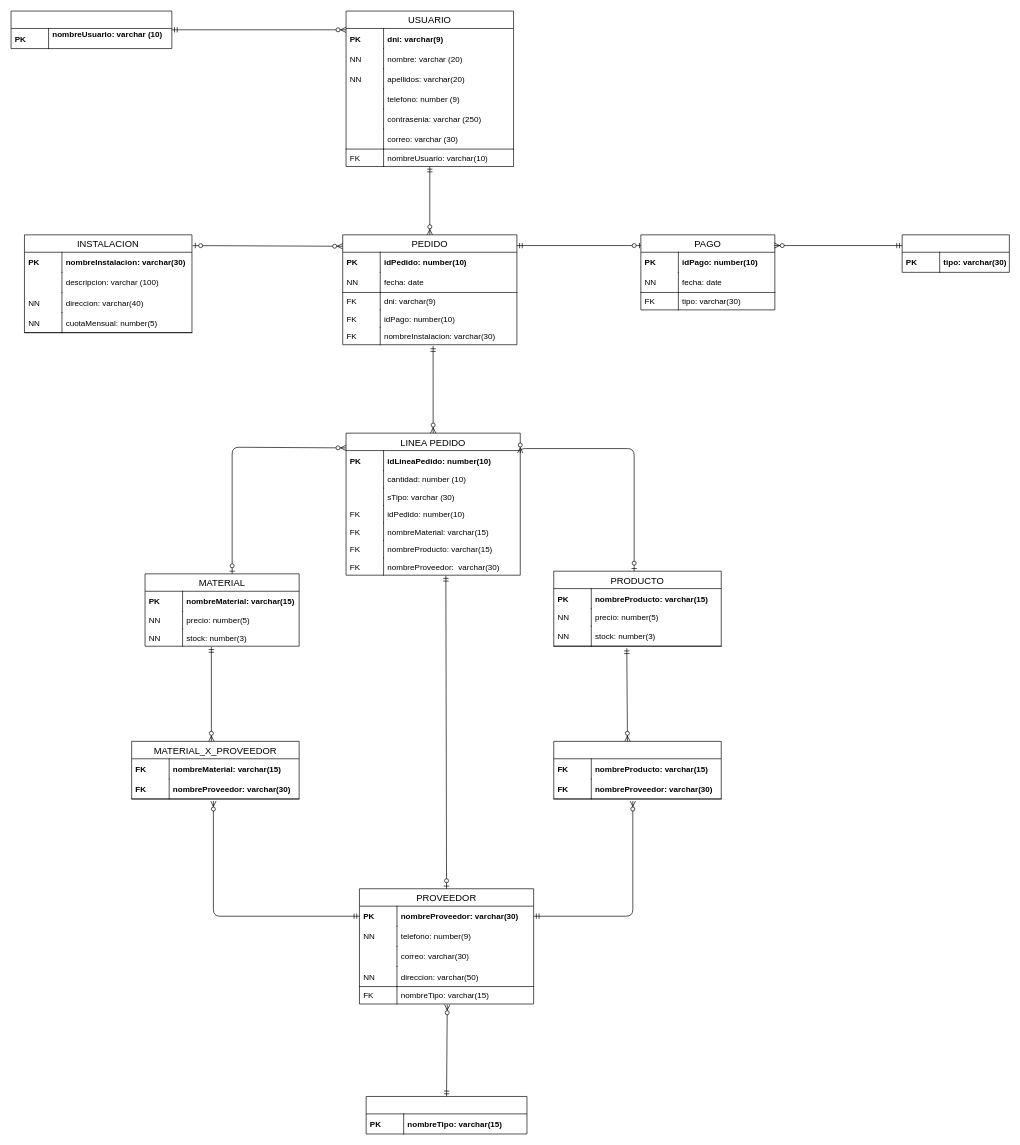
Image size: 1020x1145. Some labels were removed from this diagram. The box of each missing label's shape, as (x1, y1, x2, y2) in pixels:
METODO PAGO: (901, 234, 1009, 272)
PRODUCTO_X_PROVEEDOR: (553, 741, 721, 799)
TIPO DE USUARIO: (10, 10, 172, 49)
TIPO PROVEEDOR: (365, 1096, 527, 1134)
